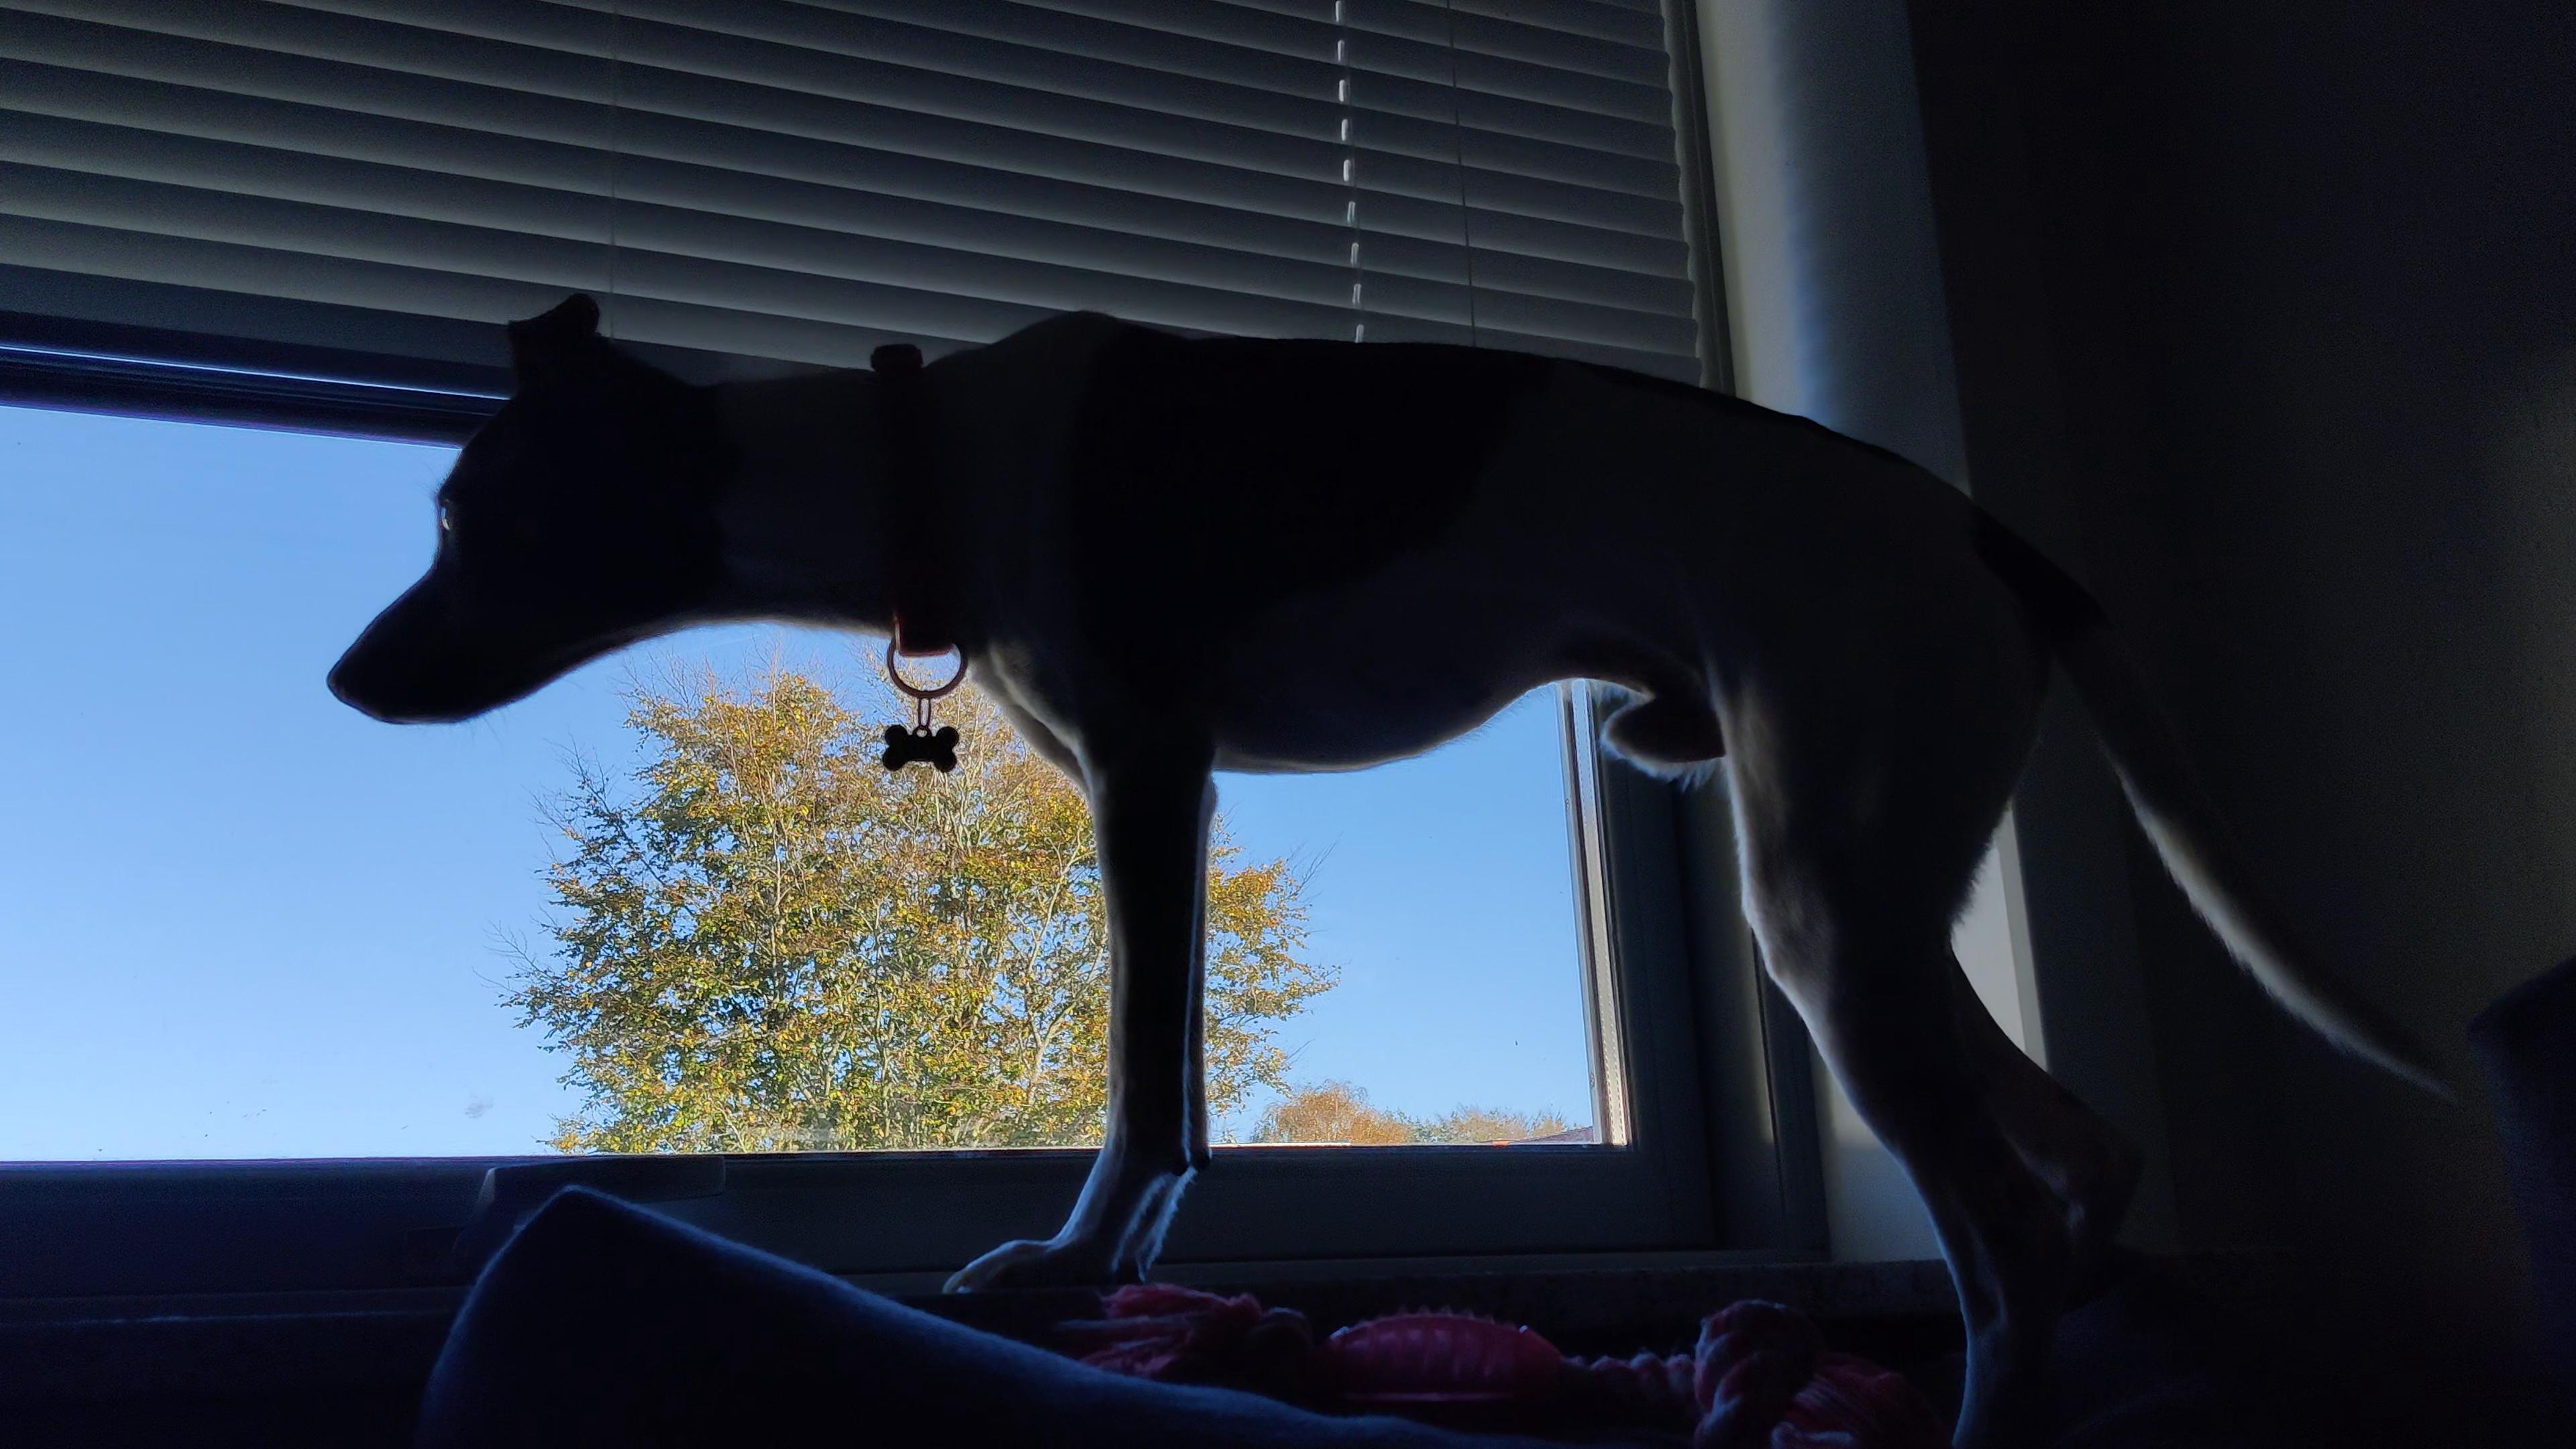Dog: (317, 280, 2475, 1449)
